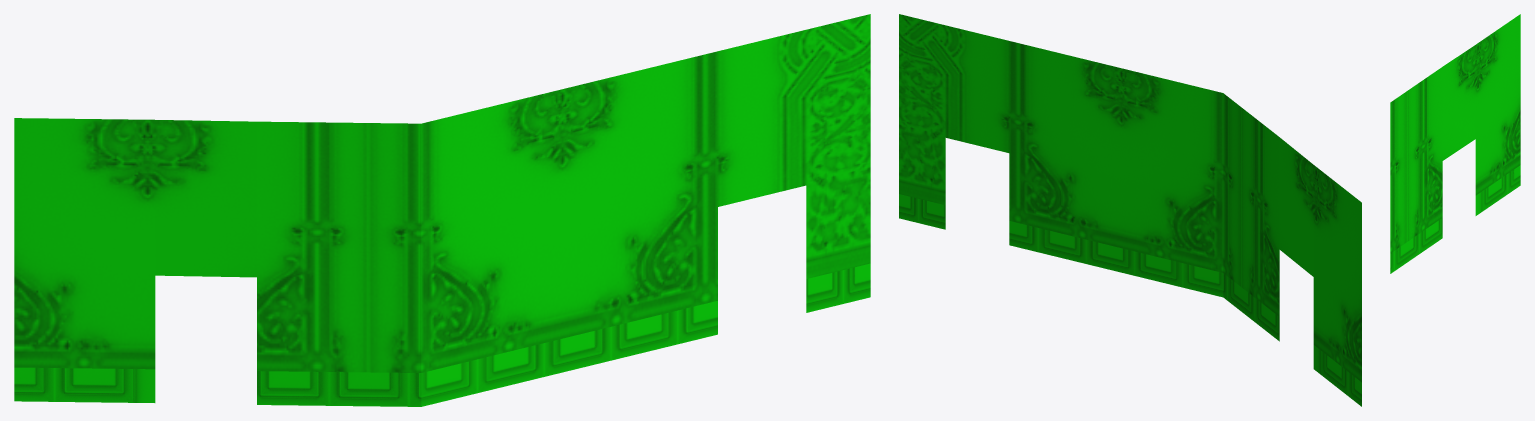
3 renders of one model, left to right at view 1: azimuth 30°, elevation 25°; view 2: azimuth 150°, elevation 25°; view 3: azimuth 270°, elevation 25°, orthographic. The views are drawn at different scales.
Visible parts, largest first — view 1: 복도 벽 6; view 2: 복도 벽 6; view 3: 복도 벽 6.
Boxes of the visible parts, x1,y1,x2,y2 form: 복도 벽 6: (14, 14, 870, 406); 복도 벽 6: (899, 14, 1361, 406); 복도 벽 6: (1390, 14, 1520, 273).
Size of the model in its own units: 548 by 198 by 136.
